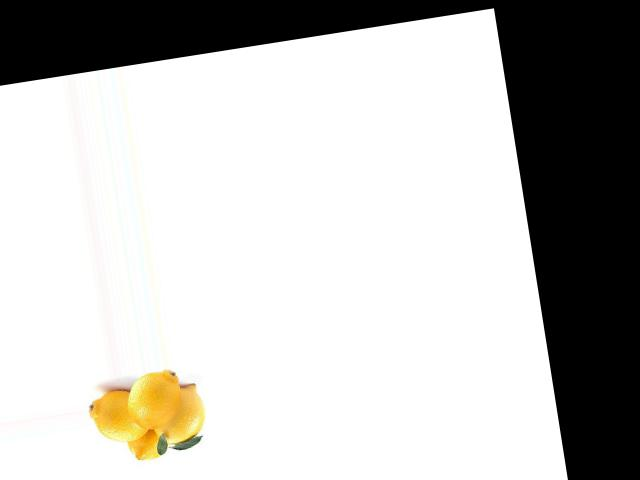lemon: (84, 391, 152, 448)
